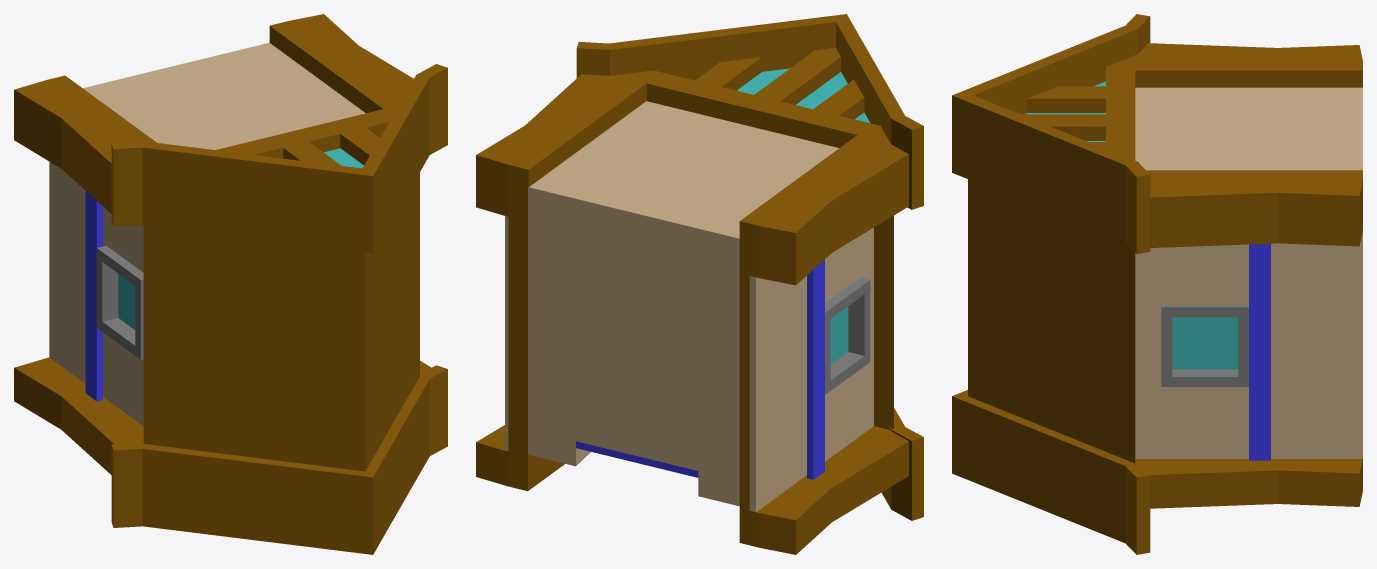
File: house.fbx
3 views of the same model, side by side, from view 1: azimuth 30°, elevation 25°; view 2: azimuth 150°, elevation 25°; view 3: azimuth 270°, elevation 25° (orthographic). The views are drawn at different scales.
Visible parts, largest first — view 1: house wood, window, glass; view 2: house wood, window, door, glass; view 3: house wood, window, glass.
Boxes of the visible parts, <box> form: house wood: <box>14,14,447,554</box>; window: <box>96,148,363,359</box>; glass: <box>118,274,135,329</box>; house wood: <box>476,14,923,554</box>; window: <box>737,68,870,394</box>; door: <box>576,441,698,477</box>; glass: <box>830,306,848,364</box>; house wood: <box>952,14,1362,554</box>; window: <box>1024,81,1248,386</box>; glass: <box>1172,317,1238,369</box>.
Bounding box in the file's own units: 8.77 × 9.5 × 9.36.
